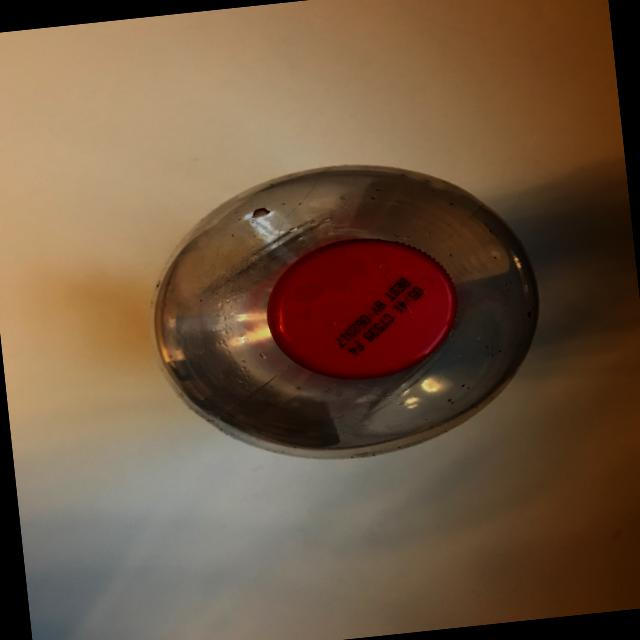Plastic: (101, 141, 564, 504)
